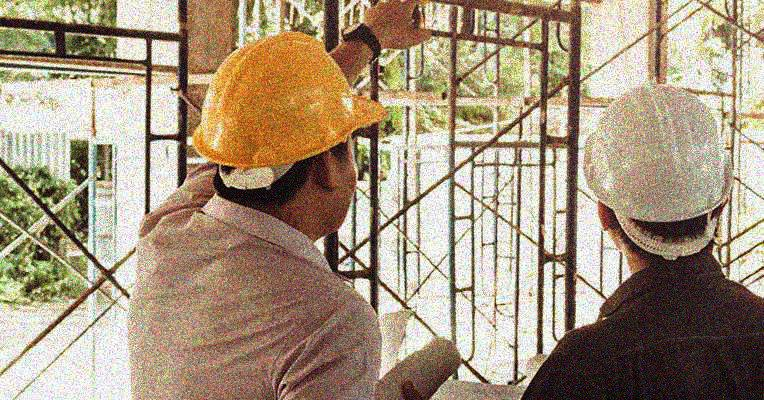helmet: (197, 34, 391, 235), (584, 80, 737, 267)
